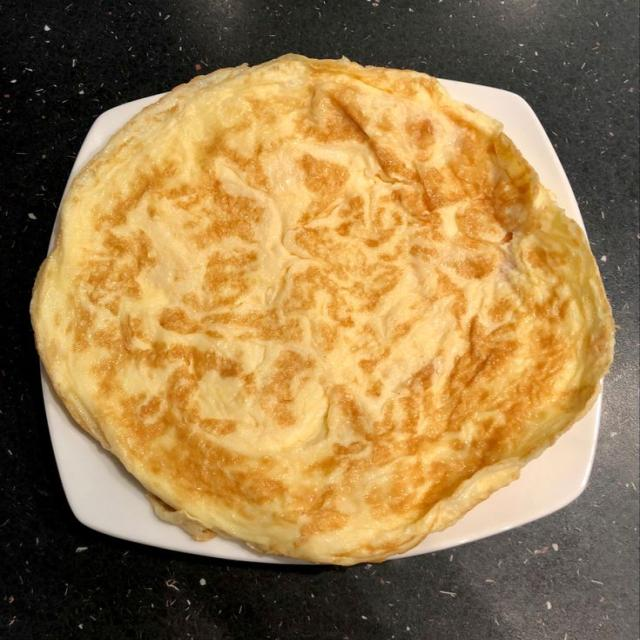omelette: (32, 55, 613, 564)
